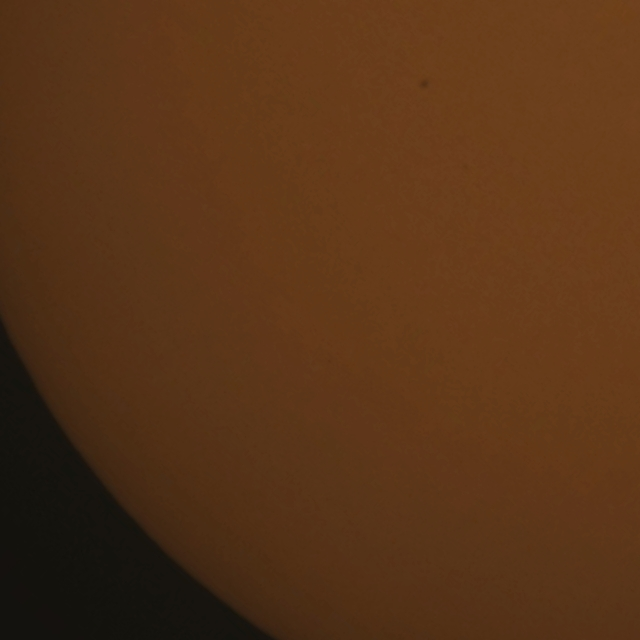sunspot: (417, 77, 431, 92)
